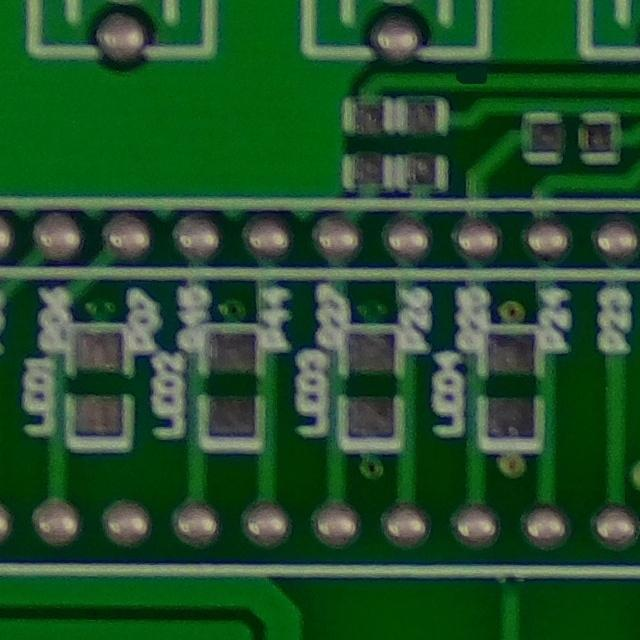mouse_bite: (434, 55, 506, 103)
